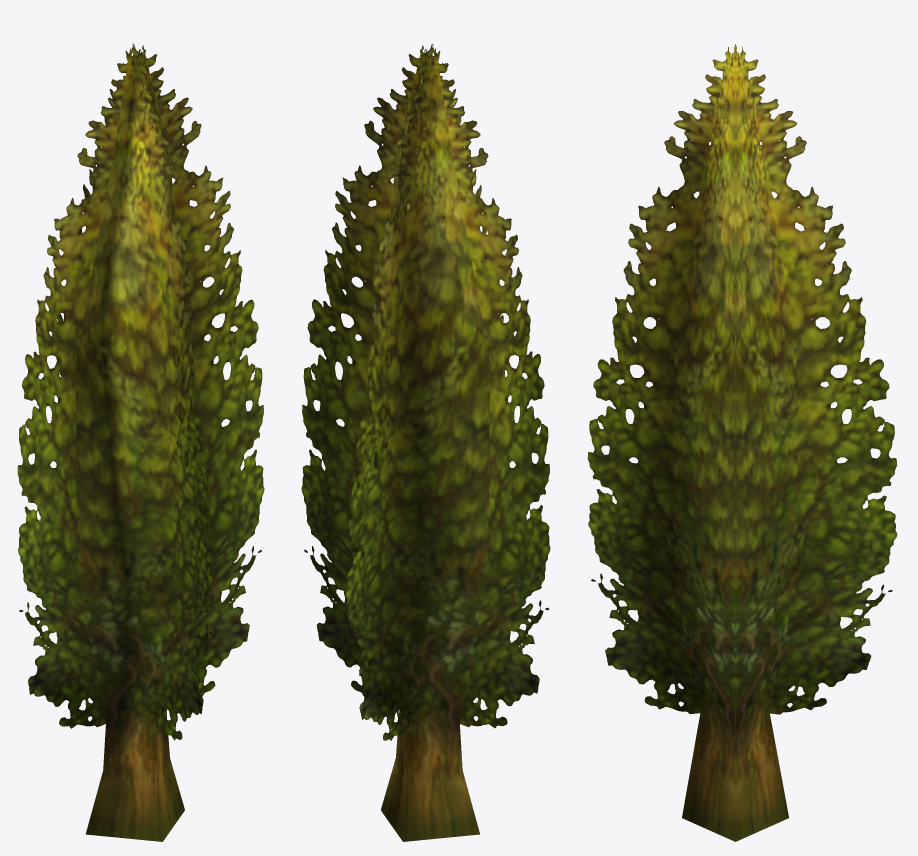
The model's file is elwynnpine01.glb.
3 renders of one model, left to right at view 1: azimuth 30°, elevation 25°; view 2: azimuth 150°, elevation 25°; view 3: azimuth 270°, elevation 25°, orthographic.
Size of the model in its own units: 3.16 by 9.51 by 3.44.
1 material, 1 textured.
